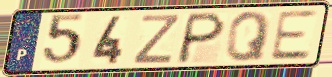4: (90, 14, 125, 66)
5: (41, 12, 87, 70)
E: (267, 8, 319, 62)
P: (173, 10, 228, 65)
Q: (223, 9, 273, 63)
Z: (130, 13, 183, 66)
